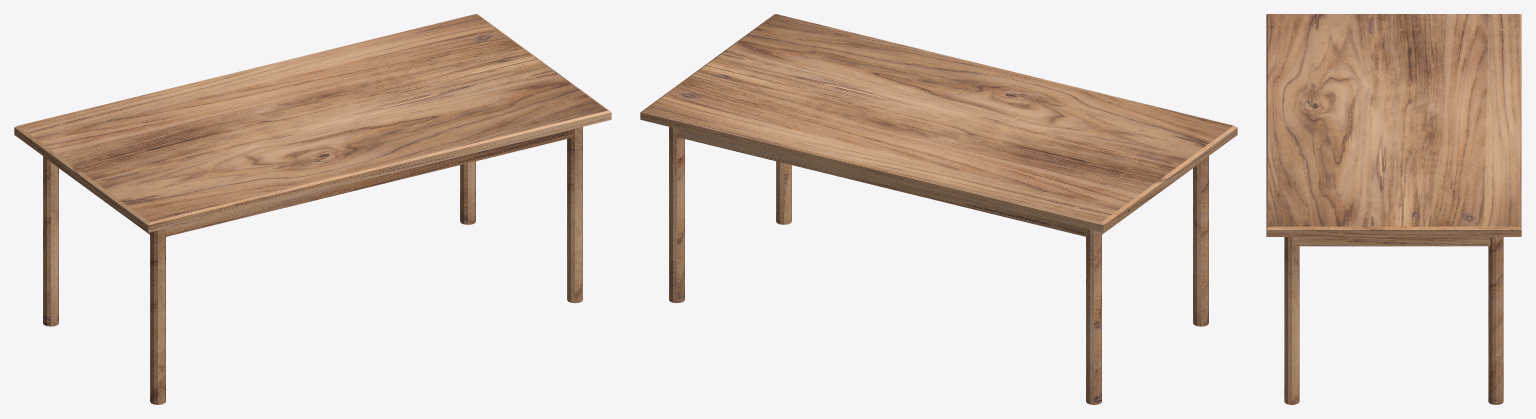
File: table.fbx
3 renders of one model, left to right at view 1: azimuth 30°, elevation 25°; view 2: azimuth 150°, elevation 25°; view 3: azimuth 270°, elevation 25°, orthographic. The views are drawn at different scales.
Parts seen in each view (by area): view 1: table.001, table.002, table.006, table.008, table.005, table.007; view 2: table.001, table, table.005, table.007, table.006, table.008; view 3: table.001, table.007, table.008, table.004.
Boxes of the visible parts, left/top/right/bottom form: table.001: left=14, top=14, right=611, bottom=232; table.002: left=165, top=129, right=572, bottom=236; table.006: left=150, top=228, right=165, bottom=404; table.008: left=567, top=127, right=582, bottom=303; table.005: left=43, top=156, right=58, bottom=326; table.007: left=460, top=161, right=475, bottom=224; table.001: left=640, top=14, right=1237, bottom=232; table: left=679, top=129, right=1086, bottom=236; table.005: left=1086, top=228, right=1101, bottom=404; table.007: left=669, top=127, right=684, bottom=303; table.006: left=1193, top=156, right=1208, bottom=326; table.008: left=776, top=161, right=791, bottom=224; table.001: left=1266, top=14, right=1521, bottom=236; table.007: left=1488, top=237, right=1503, bottom=404; table.008: left=1284, top=237, right=1299, bottom=404; table.004: left=1297, top=237, right=1490, bottom=246.
Bounding box in the file's own units: 2000 × 798 × 1000.
1 material, 1 textured.
